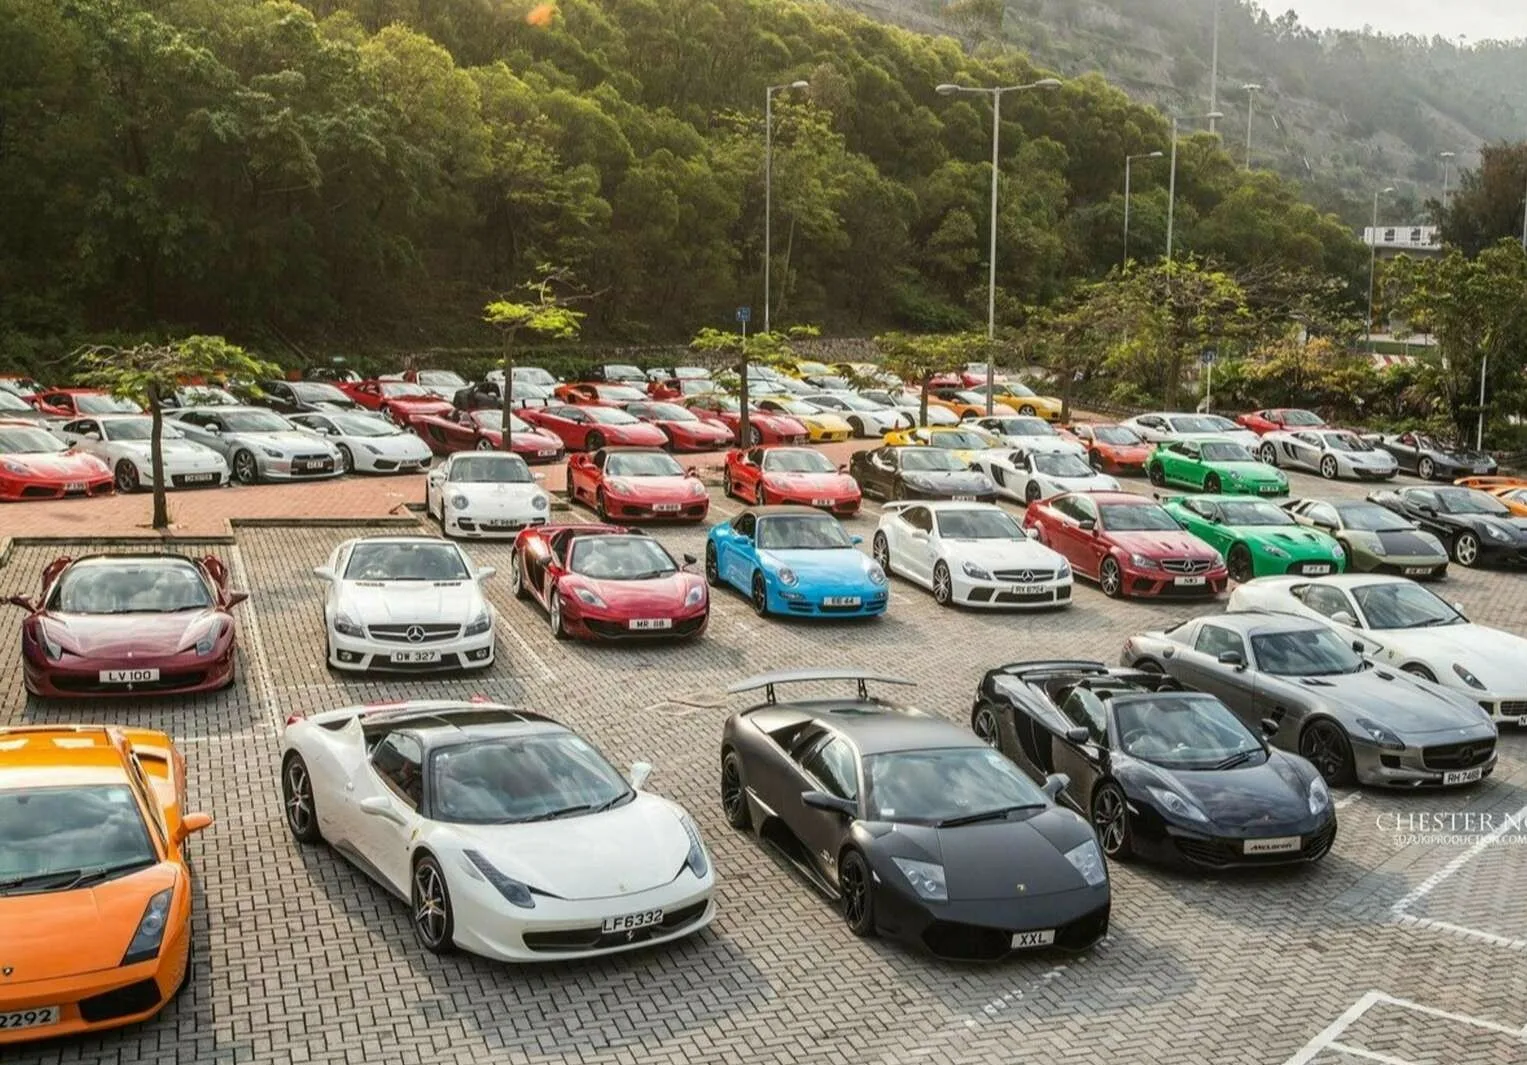Car: (278, 700, 717, 963), (718, 671, 1112, 959), (969, 659, 1338, 870), (0, 724, 214, 1045), (1119, 613, 1498, 789), (1226, 574, 1527, 729), (0, 552, 249, 700), (314, 535, 497, 673), (511, 523, 711, 642), (870, 502, 1073, 609), (1025, 493, 1228, 597), (704, 507, 890, 620), (1161, 495, 1346, 582), (39, 414, 231, 490), (160, 406, 345, 483), (1284, 499, 1449, 580), (1368, 486, 1527, 567), (425, 451, 551, 538), (565, 448, 709, 522), (722, 445, 862, 517), (281, 411, 432, 472), (400, 408, 566, 463), (0, 423, 115, 501), (1148, 437, 1289, 498), (848, 447, 999, 502), (979, 447, 1121, 503), (1258, 429, 1397, 481), (512, 405, 668, 451), (674, 394, 812, 445), (1359, 432, 1499, 481), (621, 401, 733, 451), (336, 381, 456, 427), (790, 393, 910, 437), (1056, 423, 1155, 474), (882, 427, 999, 469), (750, 397, 855, 442), (967, 415, 1085, 454), (243, 381, 370, 413), (853, 390, 961, 427), (965, 383, 1071, 420), (1120, 413, 1232, 448), (32, 386, 151, 419), (454, 381, 566, 411), (927, 387, 1018, 423), (369, 370, 469, 403), (1457, 476, 1527, 519), (826, 363, 920, 394), (1235, 410, 1327, 436), (484, 368, 567, 396), (160, 383, 248, 408), (555, 383, 646, 407), (577, 363, 647, 394), (646, 376, 728, 401), (0, 387, 45, 430), (1201, 414, 1257, 449), (0, 374, 49, 403), (960, 363, 1008, 389), (302, 365, 364, 383), (773, 361, 835, 378), (798, 376, 855, 394), (646, 367, 712, 382), (928, 374, 964, 391)
